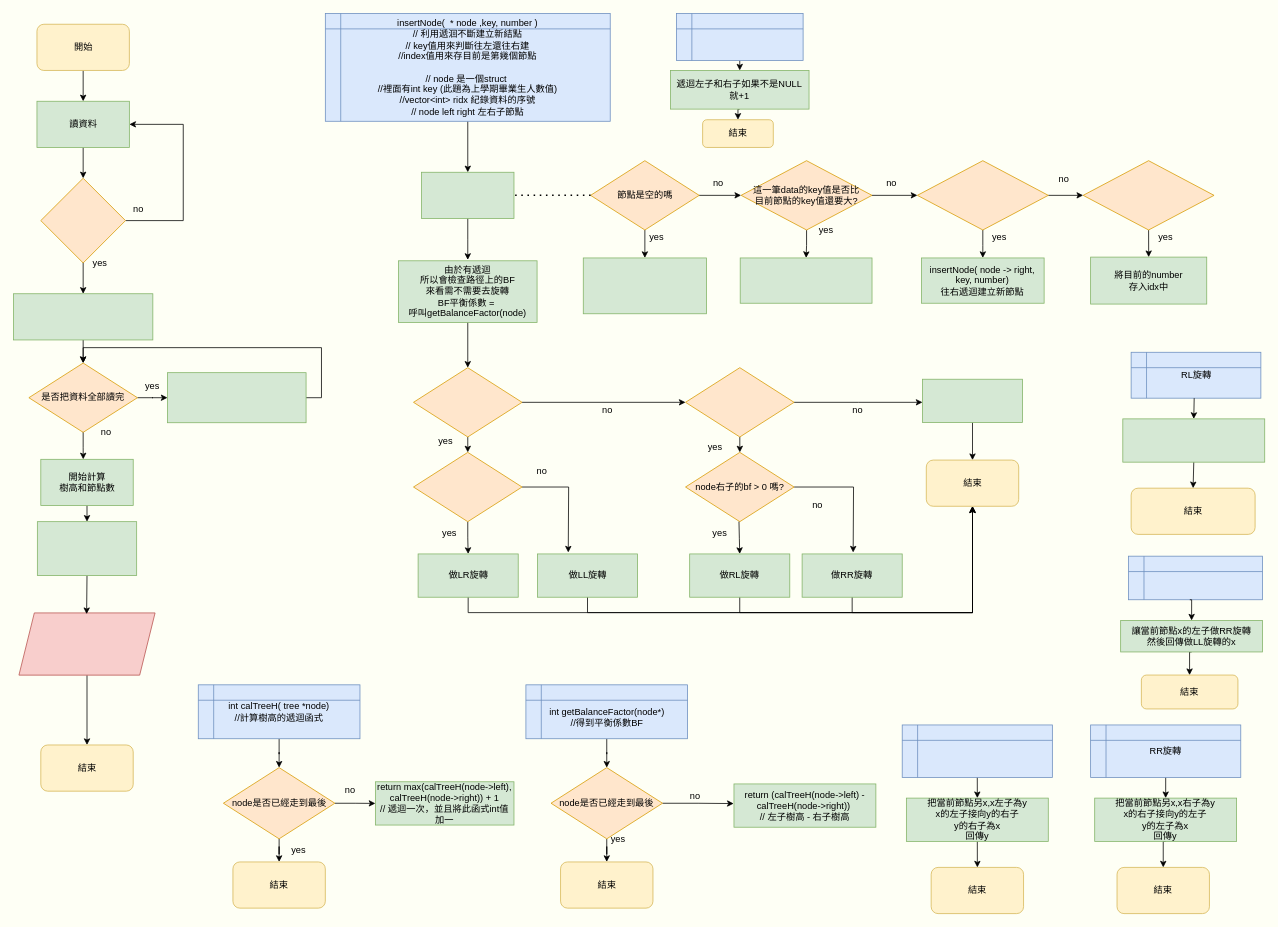
Some shapes in this 1278 by 927 pixel diagram are drawn without their labels. Here are the shapes that lost their labels. From the top down, the box of each, then its label:
(676, 13, 803, 60): 整棵樹的節點數
(421, 171, 514, 218): 先做節點和key值上的check
(917, 160, 1048, 230): 這一筆data的key值是否比 目前節點的key值還要小?
(1082, 160, 1214, 230): 這一筆data的key值是否比 與目前節點的key值相等?
(40, 177, 126, 263): 是否有這筆資料
(583, 257, 706, 314): 新增一個節點並接上 後將key,序號值放入節點 並將left和right接NULL
(739, 257, 872, 303): insertNode( node -> left, key, number) 往左遞迴建立新節點
(13, 293, 153, 340): 將資料存進vector裡面 利用for迴圈和linked list建立 AVL tree
(167, 372, 306, 423): 呼叫insertNode() 把資料的內容輸入進去 同時建樹
(413, 367, 522, 437): BF >= 2嗎
(685, 367, 794, 437): BF <= - 2
(922, 378, 1023, 422): 不需旋轉
(1122, 418, 1265, 462): 讓當前節點x的右子做LL旋轉 然後回傳做RR旋轉的x
(413, 452, 522, 522): node左子的bf < 0 嗎?
(37, 521, 137, 576): 依序號排序 此AVL樹根的資料
(1128, 555, 1262, 600): LR旋轉
(18, 612, 155, 675): 印出樹根資料樹高和節點數 和樹根裡的各項序號的資料
(901, 724, 1052, 777): LL旋轉
